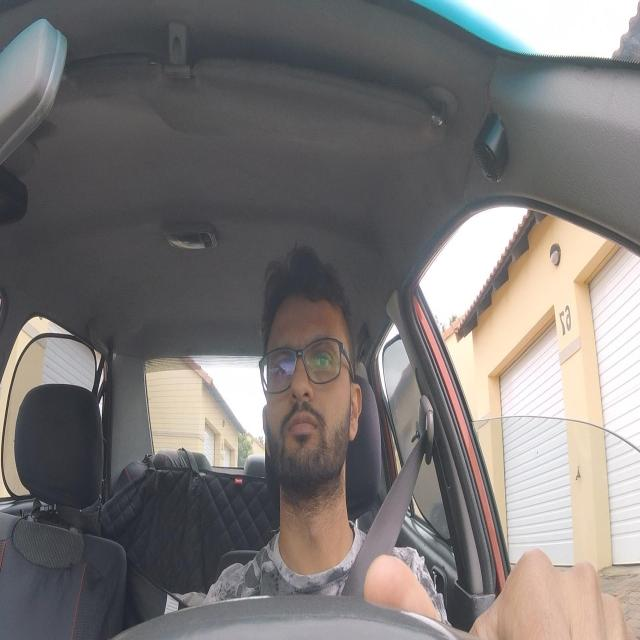open: (307, 331, 340, 385), (269, 341, 299, 391)
